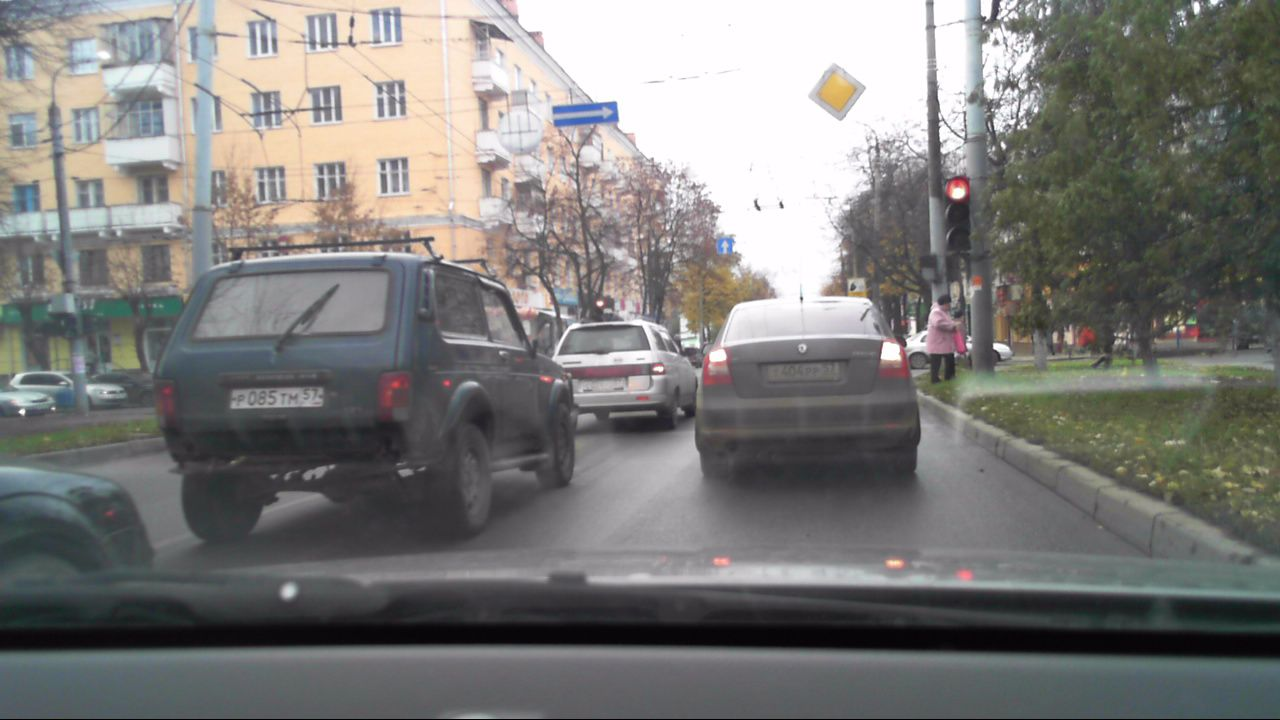One-Way Traffic: (551, 101, 618, 128)
